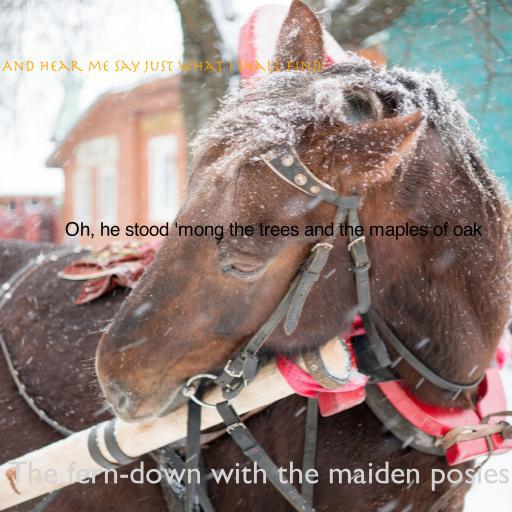Gill Sans: (8, 461, 510, 491)
Herculanum: (2, 60, 322, 73)
Impact: (64, 221, 482, 240)
